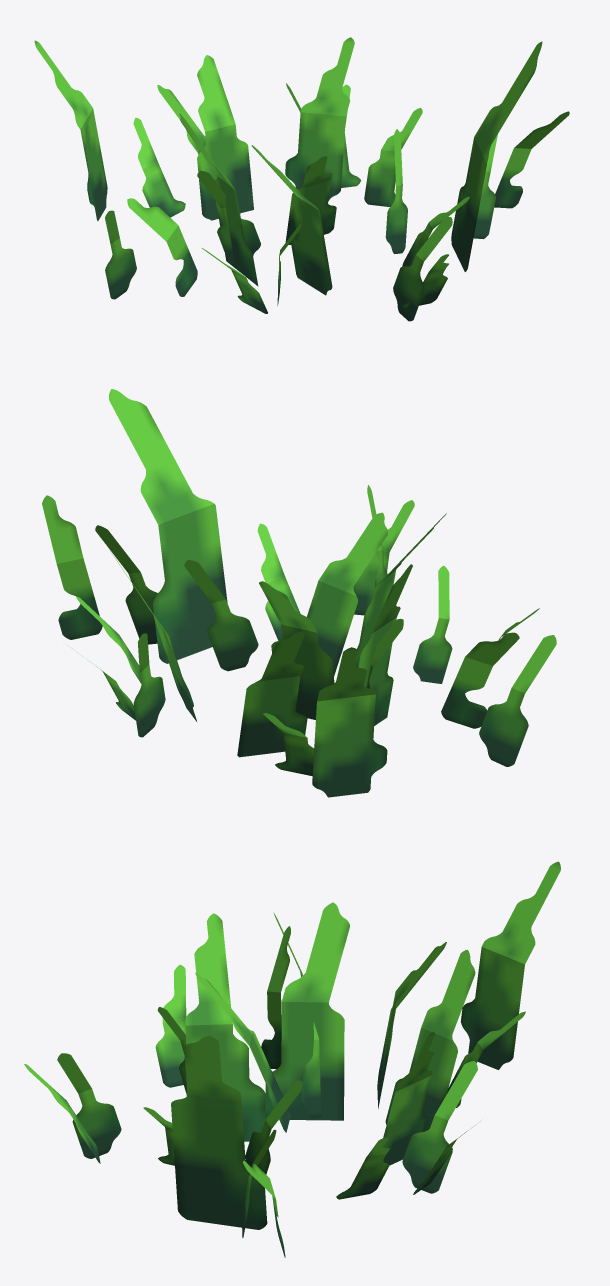
Rendered from Foliage_Grass_2.fbx.
The picture shows the model from 3 angles, top to bottom: view 1: azimuth 30°, elevation 25°; view 2: azimuth 150°, elevation 25°; view 3: azimuth 270°, elevation 25°; orthographic projection. The views are drawn at different scales.
Parts seen in each view (by area): view 1: Plane.004; view 2: Plane.004; view 3: Plane.004.
Part boxes in pixels (x1,y1,x2,y2): Plane.004: (34, 37, 569, 321); Plane.004: (42, 389, 556, 797); Plane.004: (24, 861, 560, 1257).
Size of the model in its own units: 33.79 by 13.58 by 29.28.
Materials: 1 (1 with a texture image).
